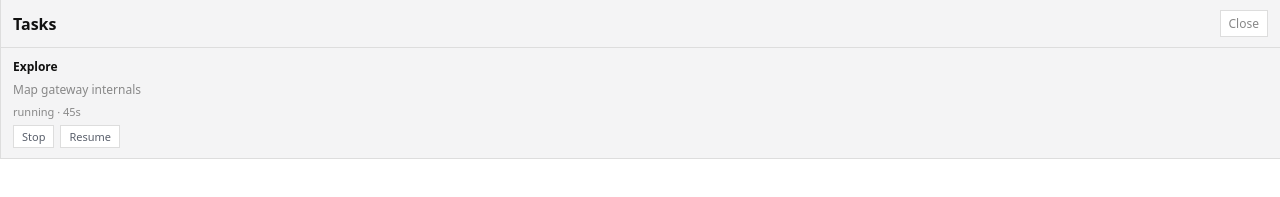
Test: TasksPanel › stop › surfaces the reason when the stop is refused
The image size is (1280, 197).
Step 1. Click the button "Stop" → (34, 136), box [13,125,54,148]
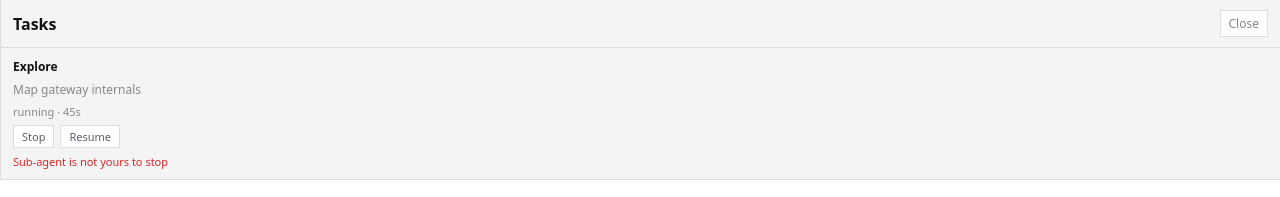
expect the message reads "Sub-agent is not yours to stop": met, box [13,154,168,169]
